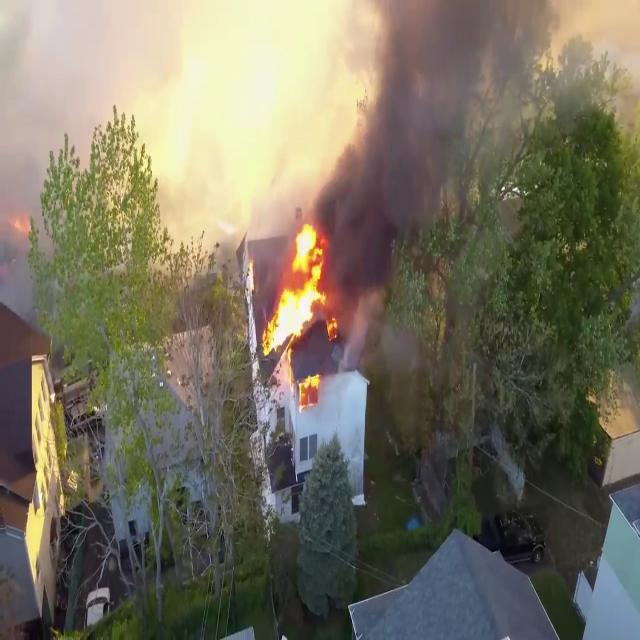Fire: (261, 216, 338, 362)
Smoke: (306, 0, 491, 340)
